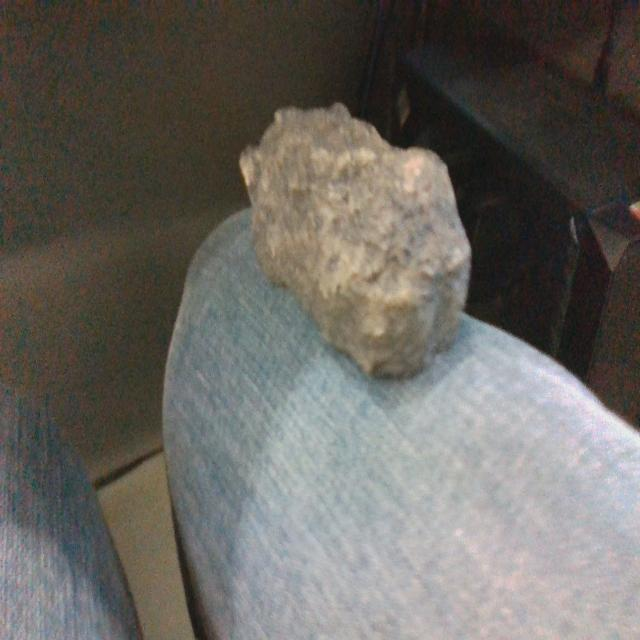stone: (239, 102, 471, 378)
